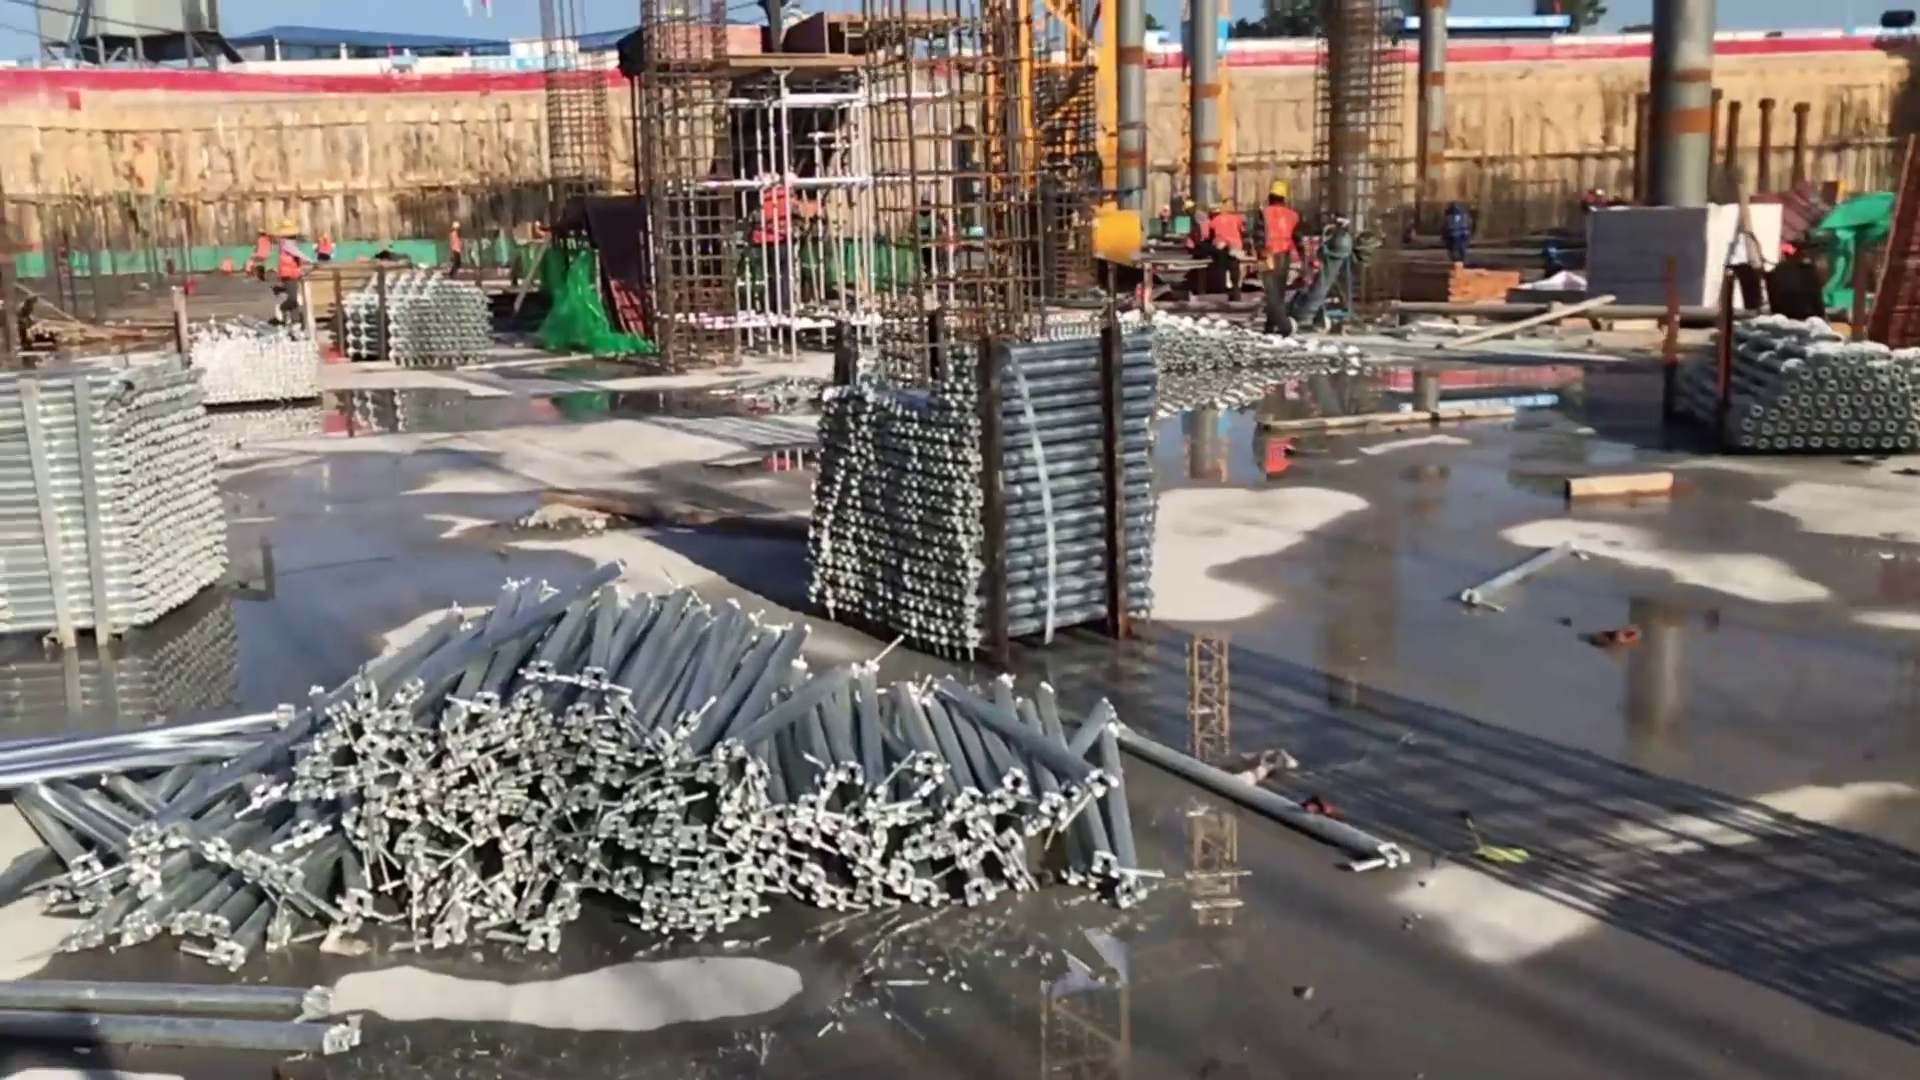person: (1256, 173, 1302, 329), (1205, 202, 1243, 297), (271, 220, 306, 314), (442, 216, 469, 281), (1177, 198, 1206, 244), (255, 227, 273, 283), (315, 227, 328, 262)
scaffold: (402, 573, 709, 954), (813, 341, 1154, 653), (6, 366, 225, 630), (1679, 315, 1913, 453), (1154, 319, 1329, 370)
vest: (1260, 203, 1296, 254), (1212, 216, 1243, 249)
